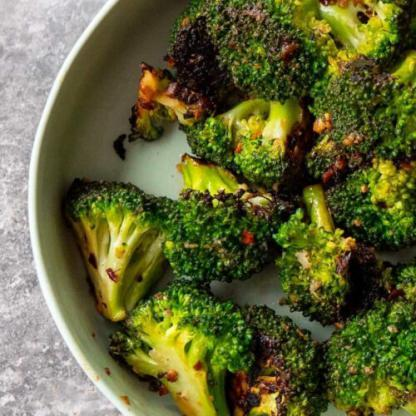broccoli: (62, 0, 416, 415)
